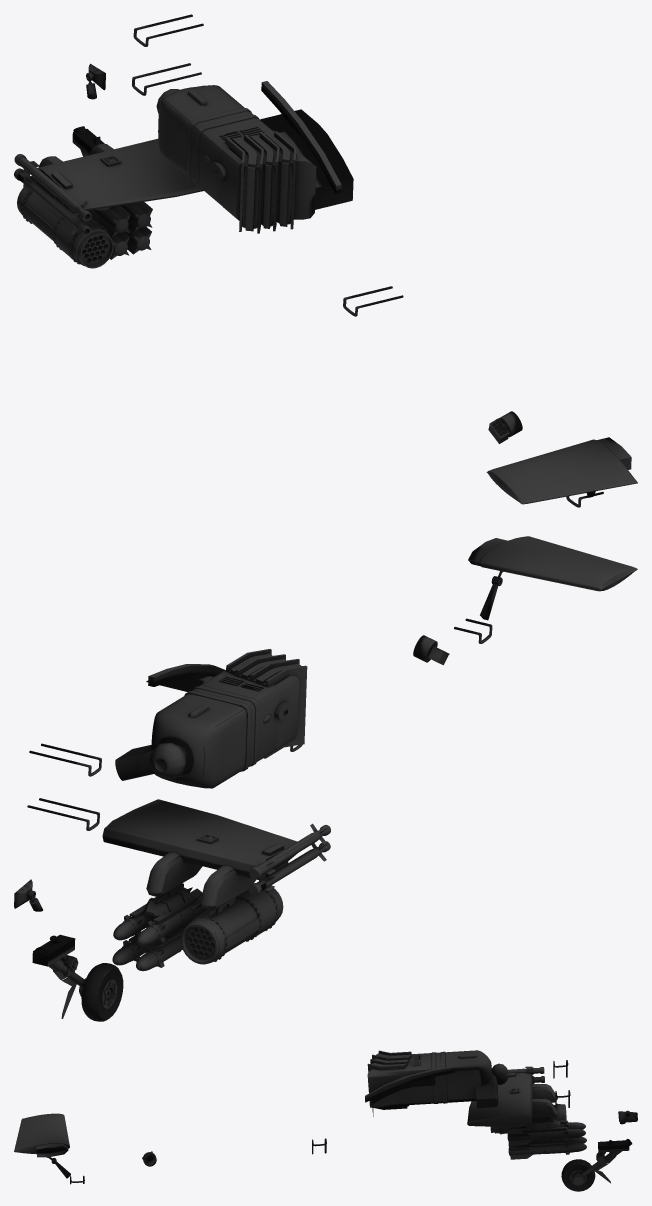
The model's file is apache_2018-details.obj.
3 views of the same model, one above another, from view 1: azimuth 30°, elevation 25°; view 2: azimuth 150°, elevation 25°; view 3: azimuth 270°, elevation 25° (orthographic). The views are drawn at different scales.
Visible parts, largest first — view 1: apache_2018-details.obj; view 2: apache_2018-details.obj; view 3: apache_2018-details.obj.
Part boxes in pixels (box(x1,y1,x2,y2)): apache_2018-details.obj: box(14, 14, 637, 507); apache_2018-details.obj: box(14, 536, 637, 1021); apache_2018-details.obj: box(14, 1050, 637, 1191).
Size of the model in its own units: 0.2276 by 0.2546 by 1.02.
1 material, 1 textured.
